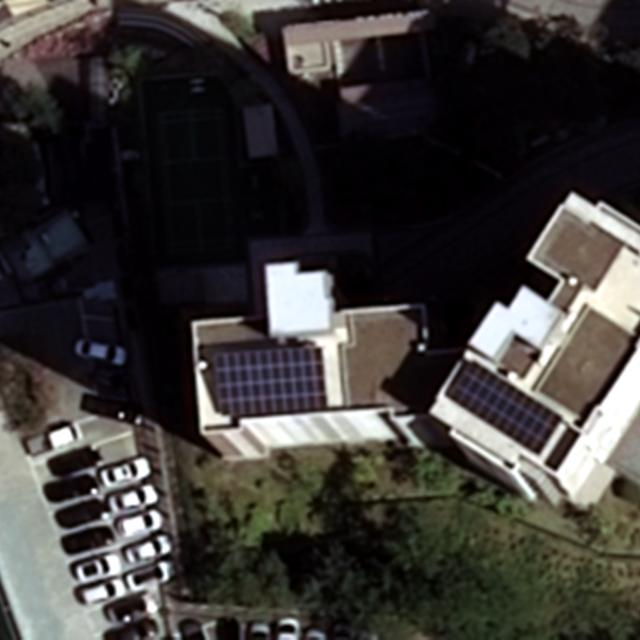solarpanel: (445, 360, 564, 457), (210, 340, 330, 413)
